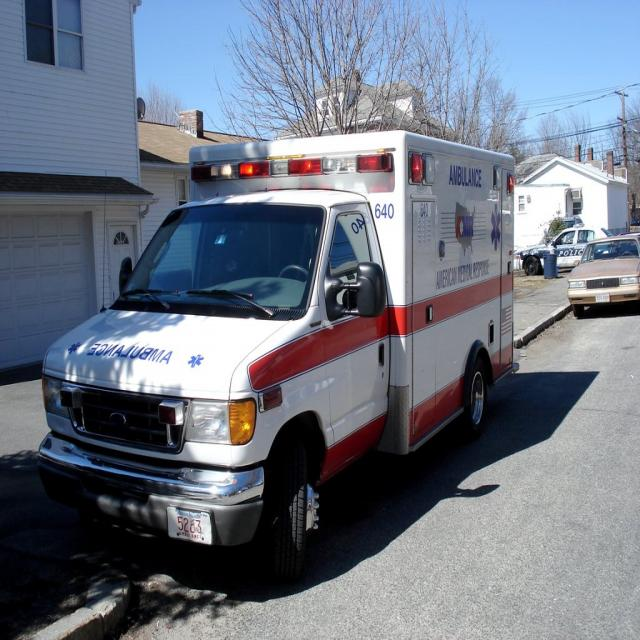Ambulance: (38, 128, 522, 592)
